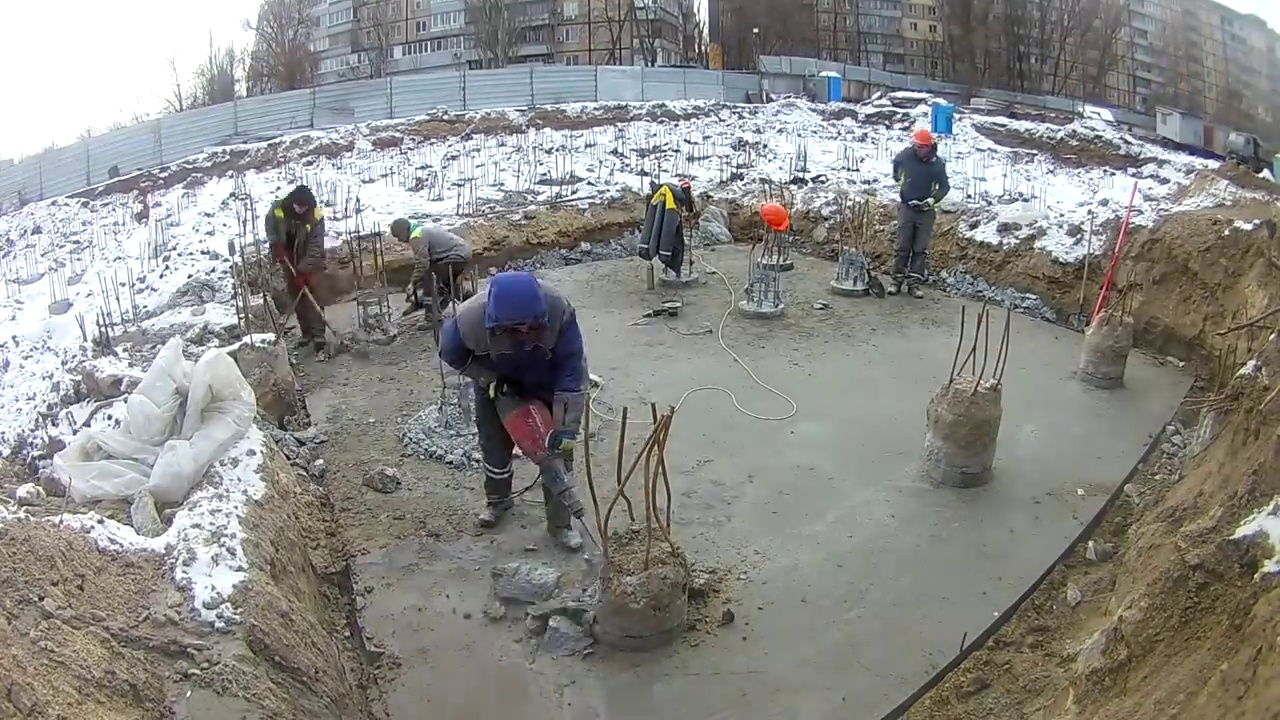helmet: (760, 204, 789, 232), (909, 131, 938, 146)
helmet-off: (483, 267, 550, 343), (388, 216, 419, 248), (288, 189, 315, 216)
helmet-on: (909, 130, 940, 165)
person: (441, 267, 590, 550), (264, 185, 335, 355), (884, 129, 949, 299), (388, 214, 469, 327)
